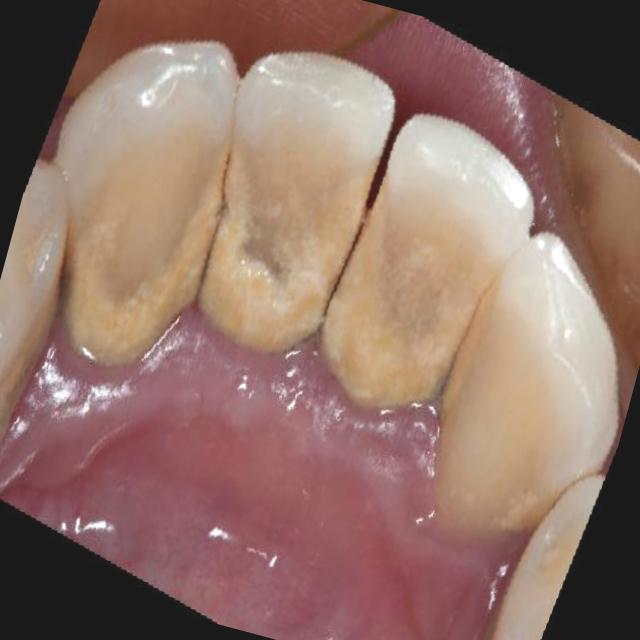calculus: (44, 51, 250, 392), (312, 165, 522, 427), (190, 85, 386, 355)
